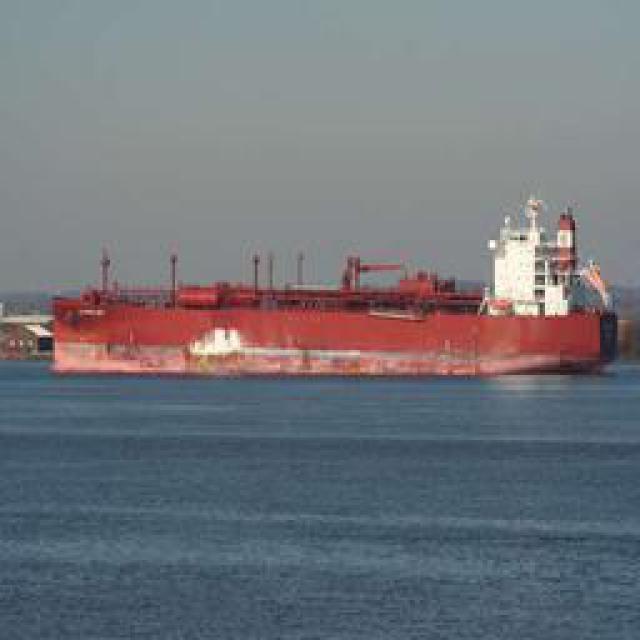Ship: (51, 279, 619, 374)
